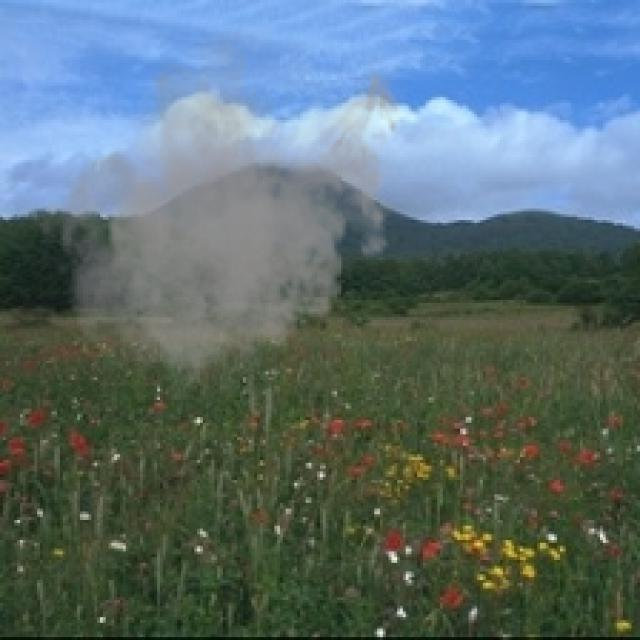smoke: (34, 6, 412, 400)
